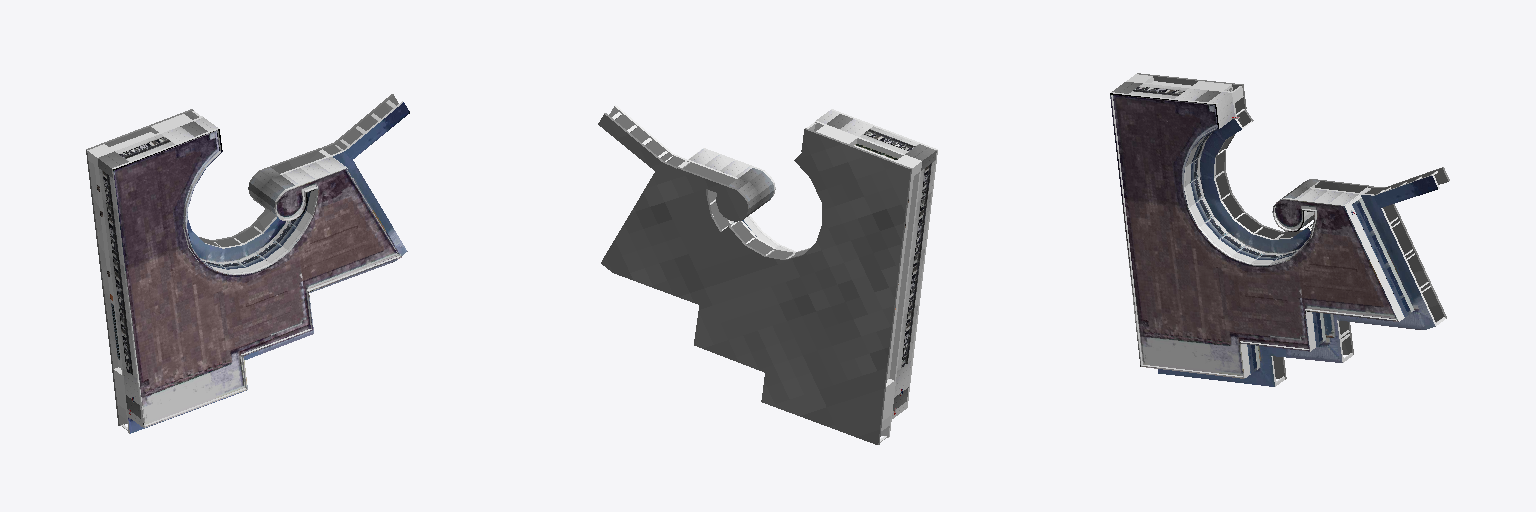
3 renders of one model, left to right at view 1: azimuth 30°, elevation 25°; view 2: azimuth 150°, elevation 25°; view 3: azimuth 330°, elevation 25°, orthographic.
Parts seen in each view (by area): view 1: polygon.855; view 2: polygon.855; view 3: polygon.855.
Boxes of the visible parts, box(x1,y1,x2,y2) form: polygon.855: box(86, 94, 409, 433); polygon.855: box(598, 105, 937, 444); polygon.855: box(1110, 73, 1449, 386).
Size of the model in its own units: 62.37 by 56.88 by 9.48.
1 materials, 1 textured.